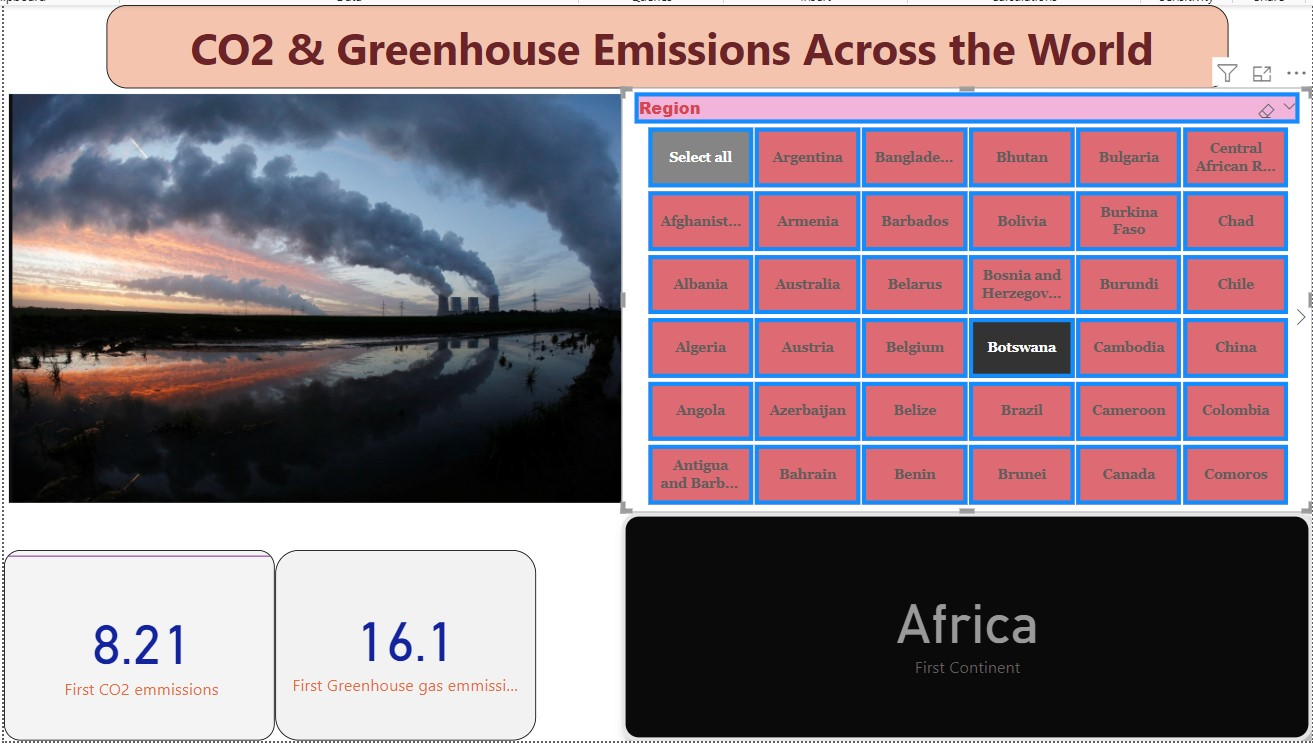

Layout of this report page (visuals, bound fields, positions):
{"tool":"powerbi","page":{"name":"Page 1","canvas":[1280,720],"ordinal":0},"visuals":[{"type":"card","fields":{"Values":["Min(co2_greenHouseGas_Emissions.CO2 emmissions)"]},"box":[0,533.8,265,186.2],"z":0},{"type":"image","box":[0,55,620,463.8],"z":1000},{"type":"card","fields":{"Values":["Min(co2_greenHouseGas_Emissions.Greenhouse gas emmissions)"]},"box":[265,533.8,255,186.2],"z":2000},{"type":"slicer","fields":{"Values":["co2_greenHouseGas_Emissions.Region"]},"box":[603.8,81.2,676.2,415],"z":3000},{"type":"card","fields":{"Values":["Min(co2_greenHouseGas_Emissions.Continent)"]},"box":[603.8,496.2,676.2,223.8],"z":4000},{"type":"textbox","box":[100,0,1097.5,81.2],"z":5000}]}

Visuals, with their boxes in screenshot pixels (x1, y1, x2, y2):
card - Min(co2_greenHouseGas_Emissions.CO2 emmissions): select_region(7, 547, 275, 735)
image: select_region(7, 62, 634, 532)
card - Min(co2_greenHouseGas_Emissions.Greenhouse gas emmissions): select_region(275, 547, 533, 735)
slicer - co2_greenHouseGas_Emissions.Region: select_region(618, 89, 1302, 509)
card - Min(co2_greenHouseGas_Emissions.Continent): select_region(618, 509, 1302, 735)
textbox: select_region(108, 7, 1218, 89)
